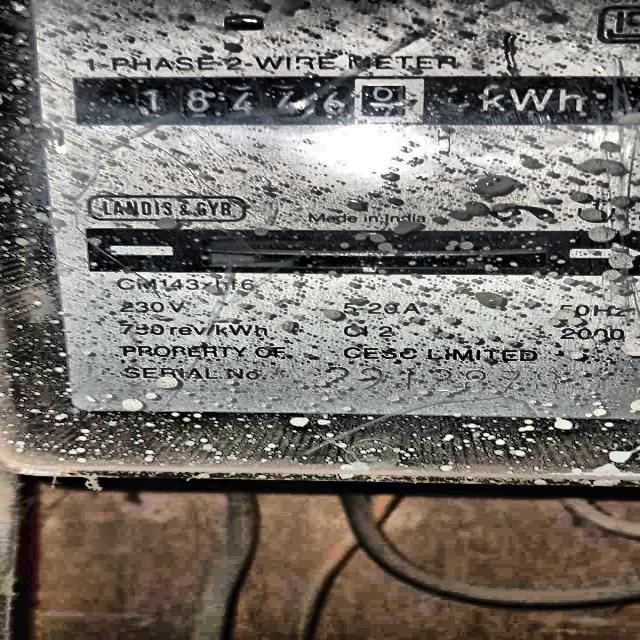Analog: (4, 0, 640, 495)
Reading: (120, 82, 418, 122)
Serial No.: (317, 364, 574, 398)
